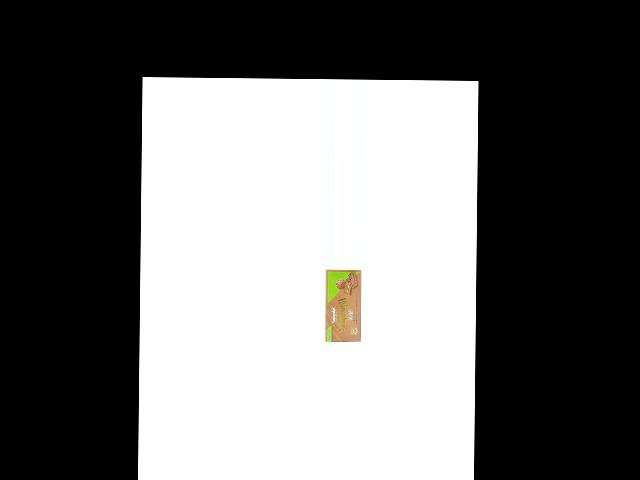chocolate: (322, 268, 363, 344)
